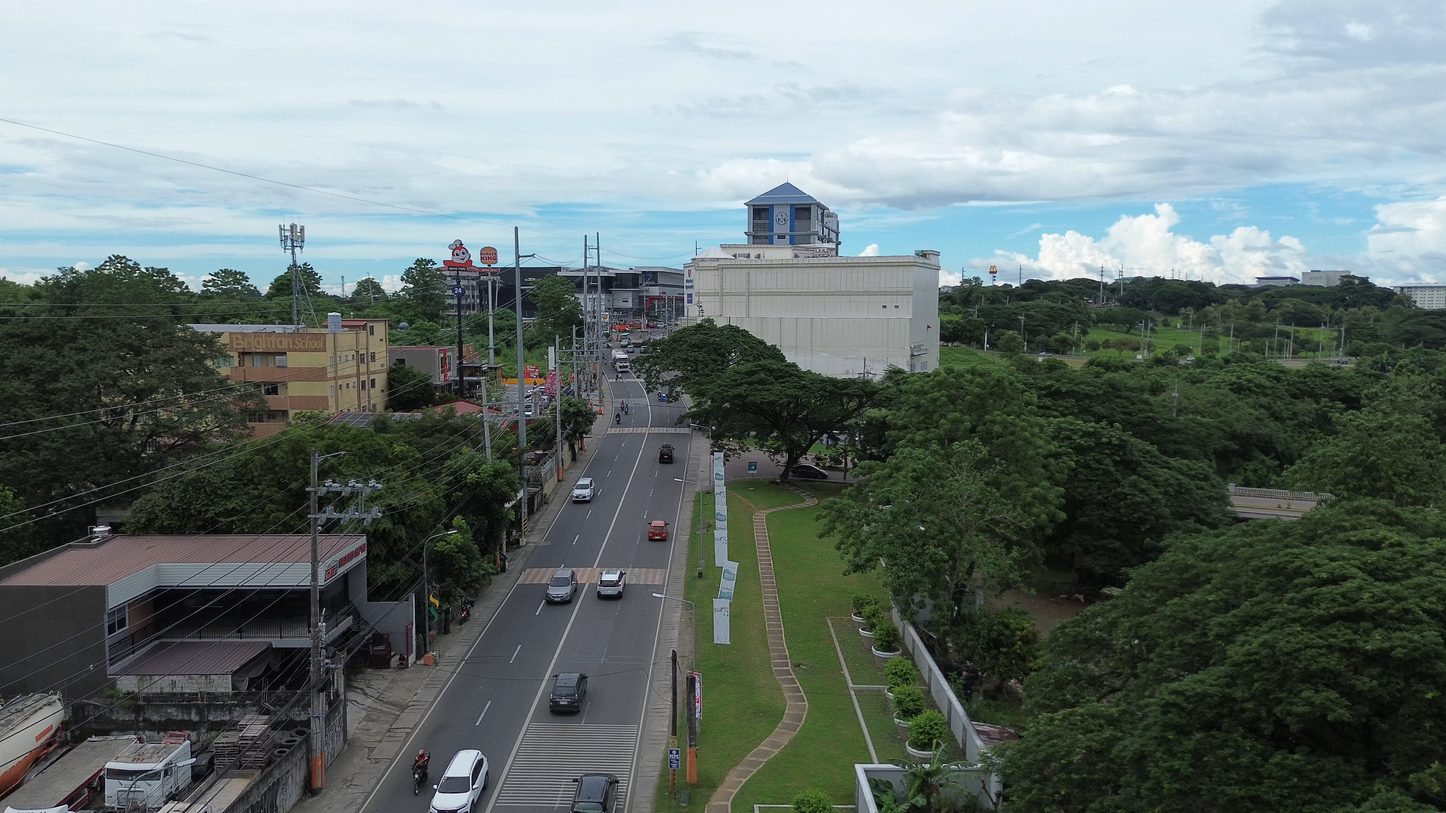car: (429, 749, 489, 813), (570, 773, 618, 813), (549, 672, 586, 712), (545, 566, 578, 603), (597, 569, 626, 598), (790, 463, 828, 479), (571, 477, 595, 502), (648, 519, 668, 540)
motorcycle: (414, 765, 427, 795), (459, 602, 470, 623), (615, 413, 621, 424)
truck: (612, 351, 630, 372)
vehicle: (0, 693, 64, 795), (106, 738, 194, 809), (612, 350, 630, 372), (658, 443, 674, 463), (619, 333, 631, 347)
